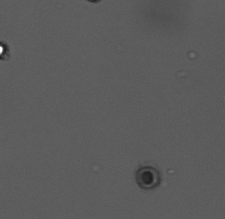Dead Cell: (136, 166, 161, 190)
Living Cell: (1, 39, 9, 61)
